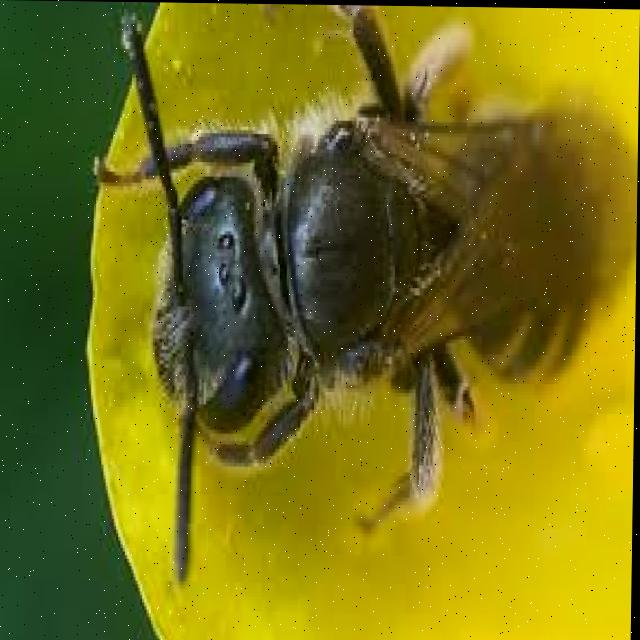Lasioglossum: (80, 1, 630, 529)
